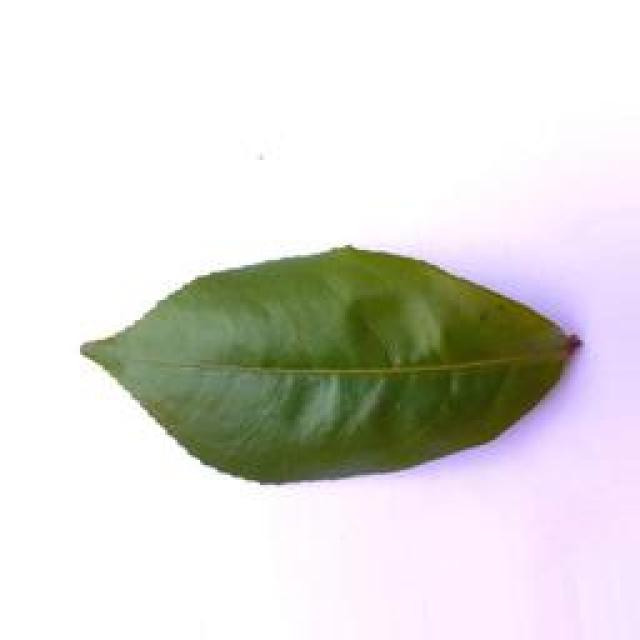Healthy: (87, 241, 596, 490)
